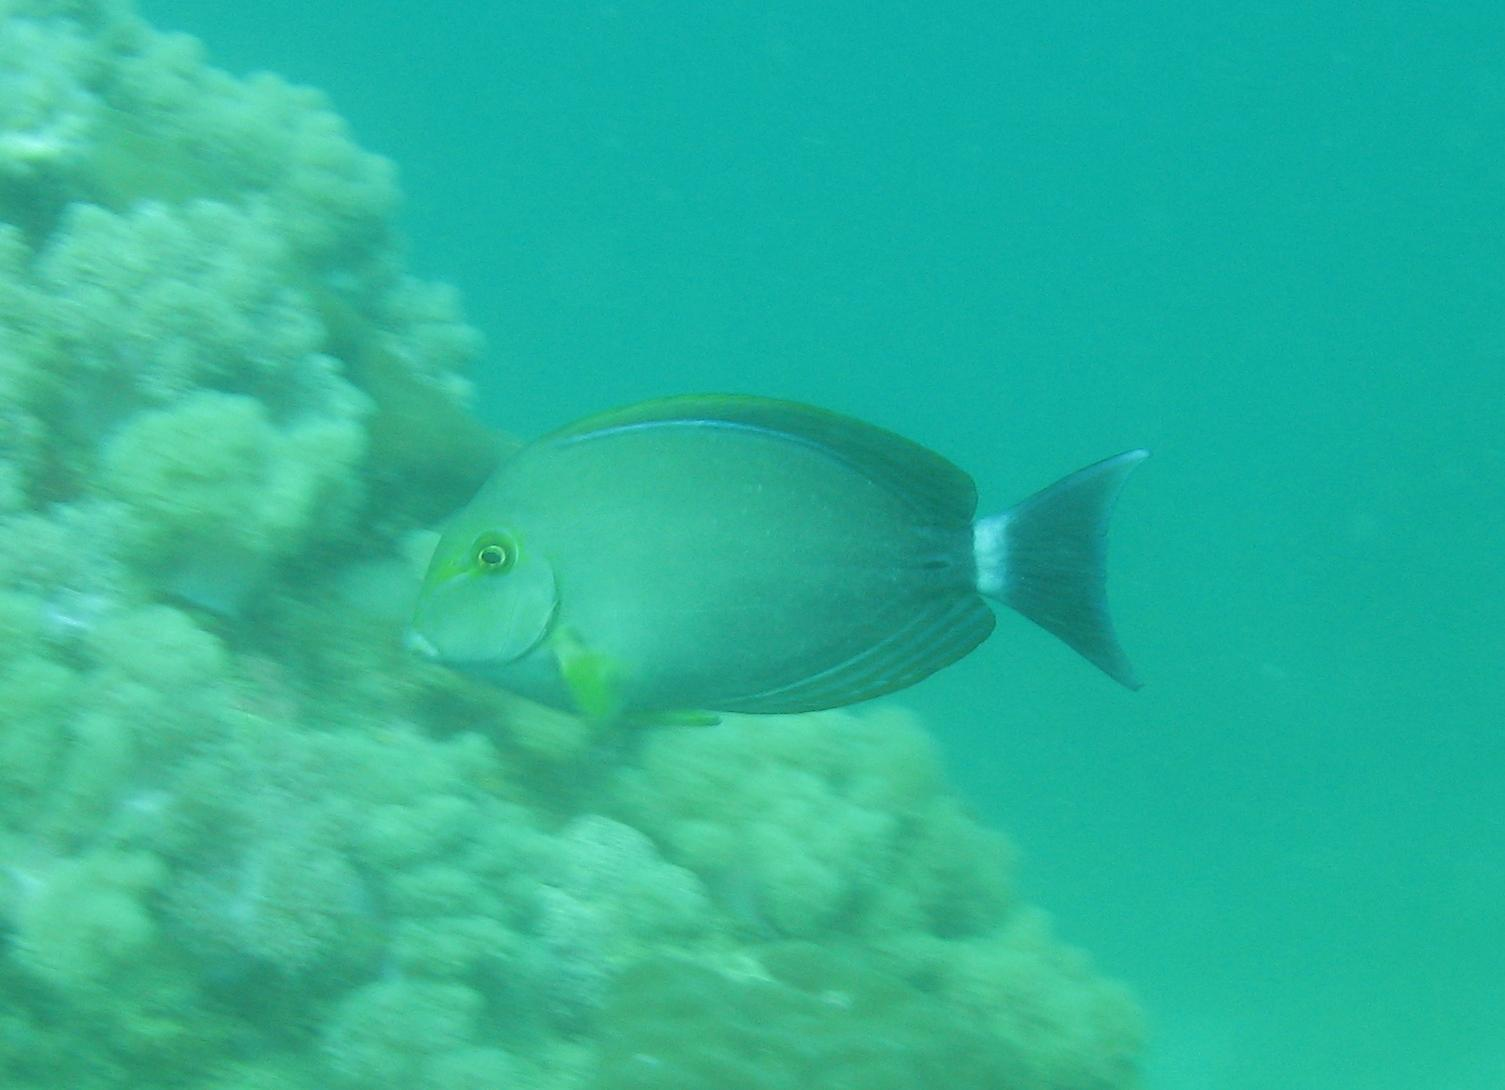Fish: (270, 271, 1348, 859)
